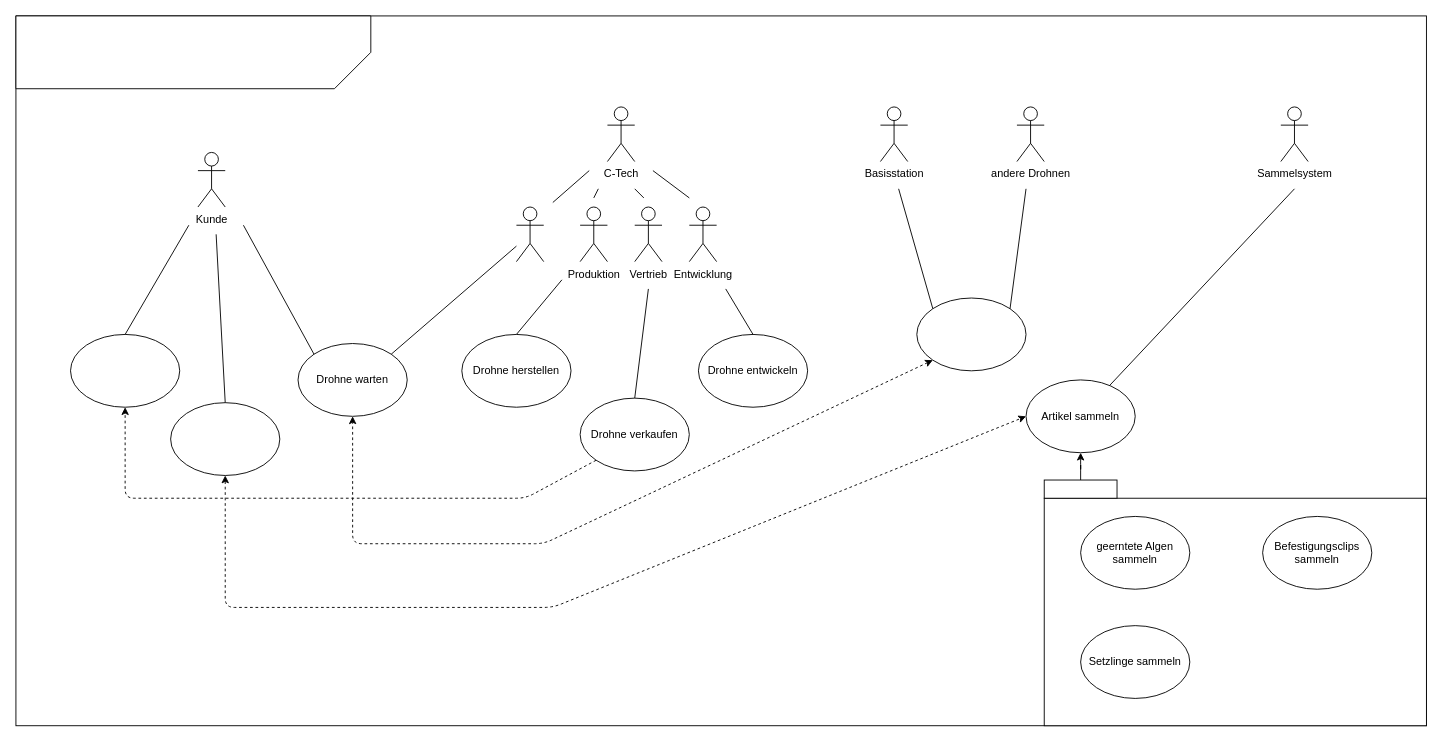
Some shapes in this 1442 by 742 pixel diagram are drawn without their labels. The shapes that lost their labels are listed below. From the top down, each one's centre as x and y in pixels, then its label:
the point at 193,52: use case
the point at 530,234: Service
the point at 971,334: Miteinander kommunizieren
the point at 125,370: Drohne kaufen
the point at 225,438: Drohne nutzen
